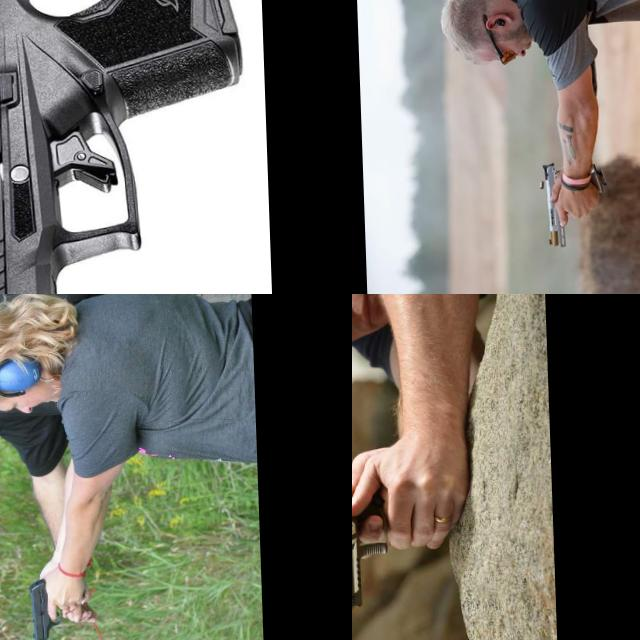handgun: (0, 0, 253, 294), (352, 467, 397, 615), (536, 160, 568, 248), (23, 574, 64, 640)
